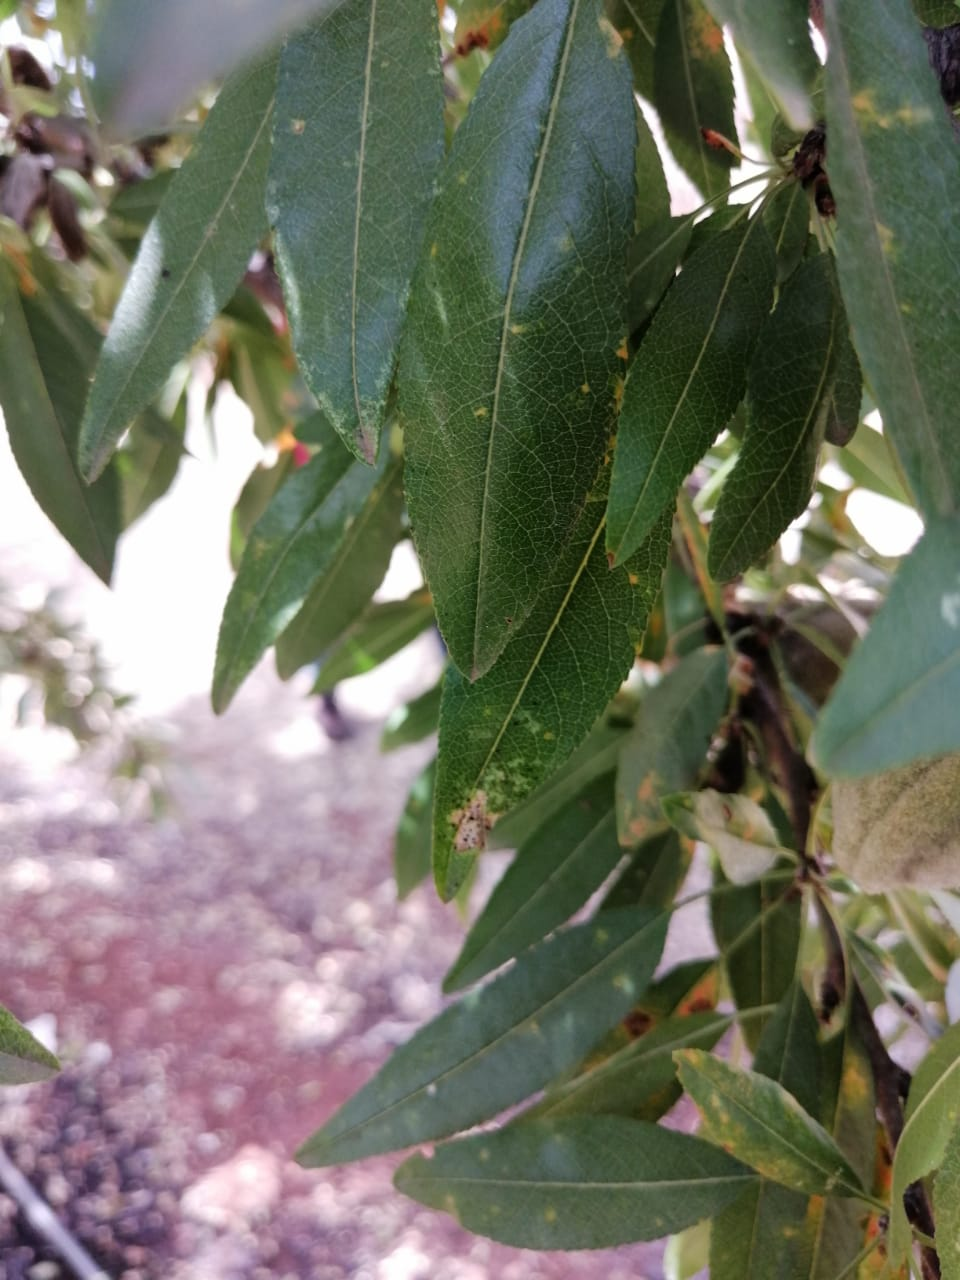faux tigre: (392, 1, 641, 684), (430, 410, 678, 903)
